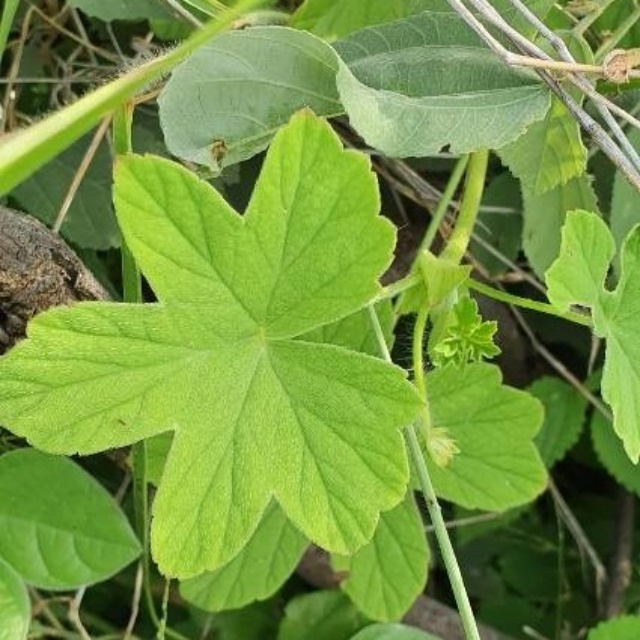obstacle: (44, 158, 535, 566)
